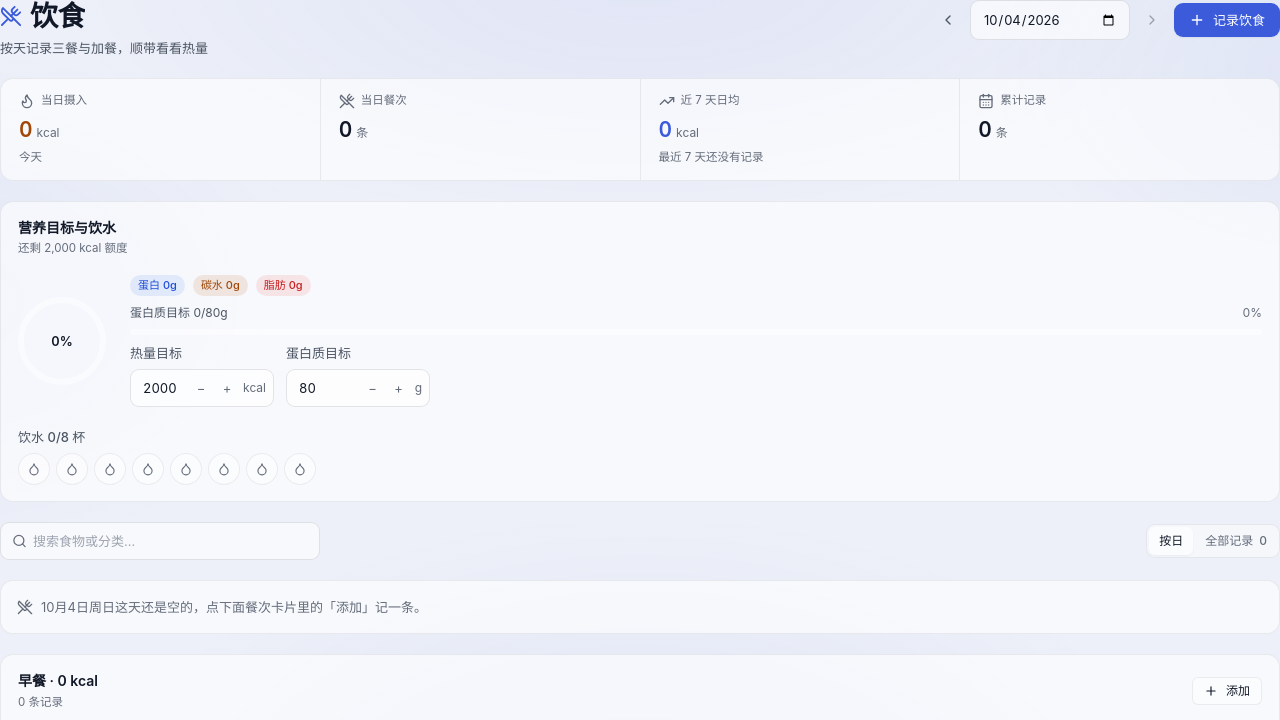
Scenario: DietPage › 记录饮食后进入对应餐次并计入当日摄入
This screenshot has width=1280, height=720.
Click the button "记录饮食".
click(1227, 20)  # box top-left (1174, 3), bottom-right (1279, 37)
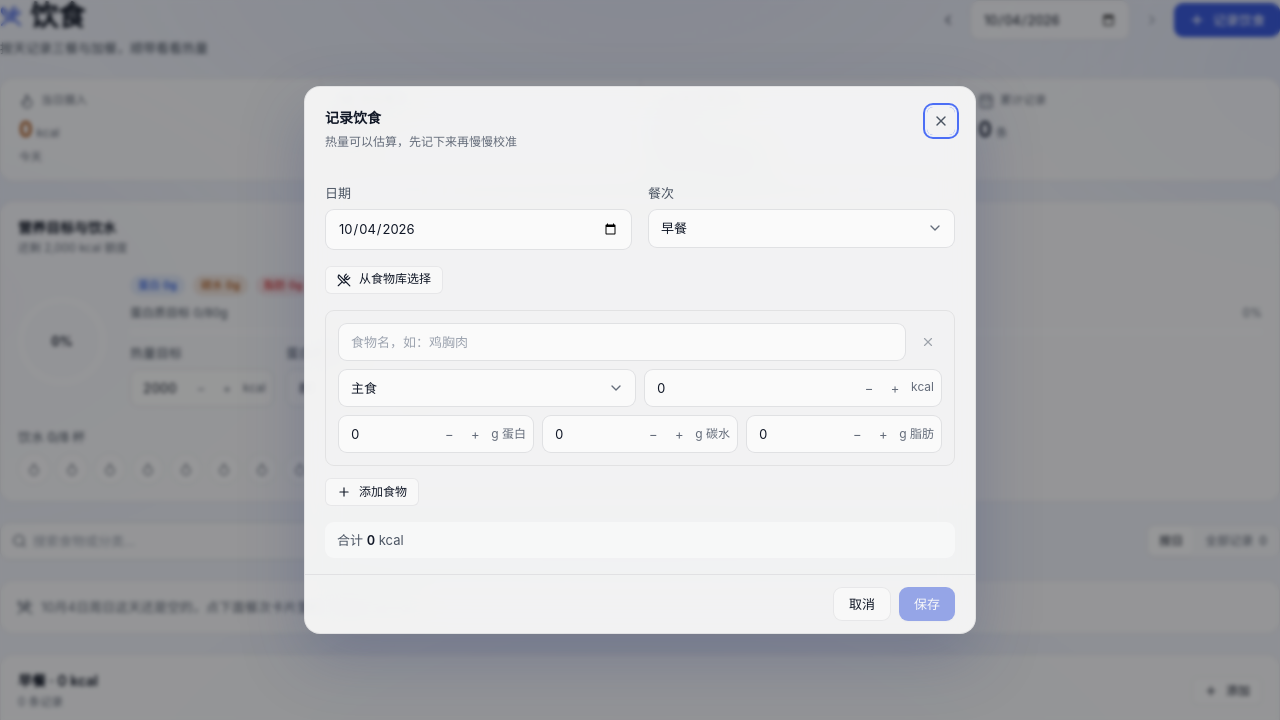
Select "午餐" in the dropdown labelled "餐次" at (802, 228), box top-left (648, 209), bottom-right (955, 248)
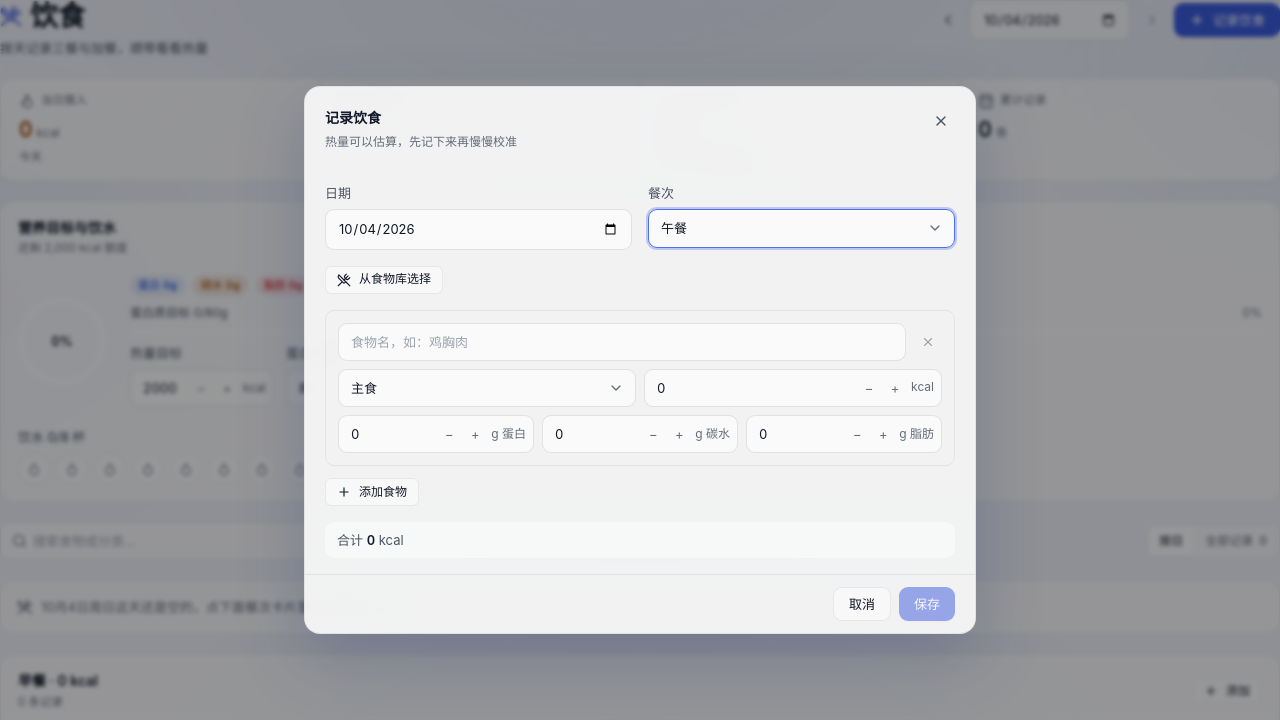
Type "鸡胸肉" into the field named "第 1 个食物名称".
click(622, 342); type("鸡胸肉")  # box top-left (338, 322), bottom-right (906, 361)
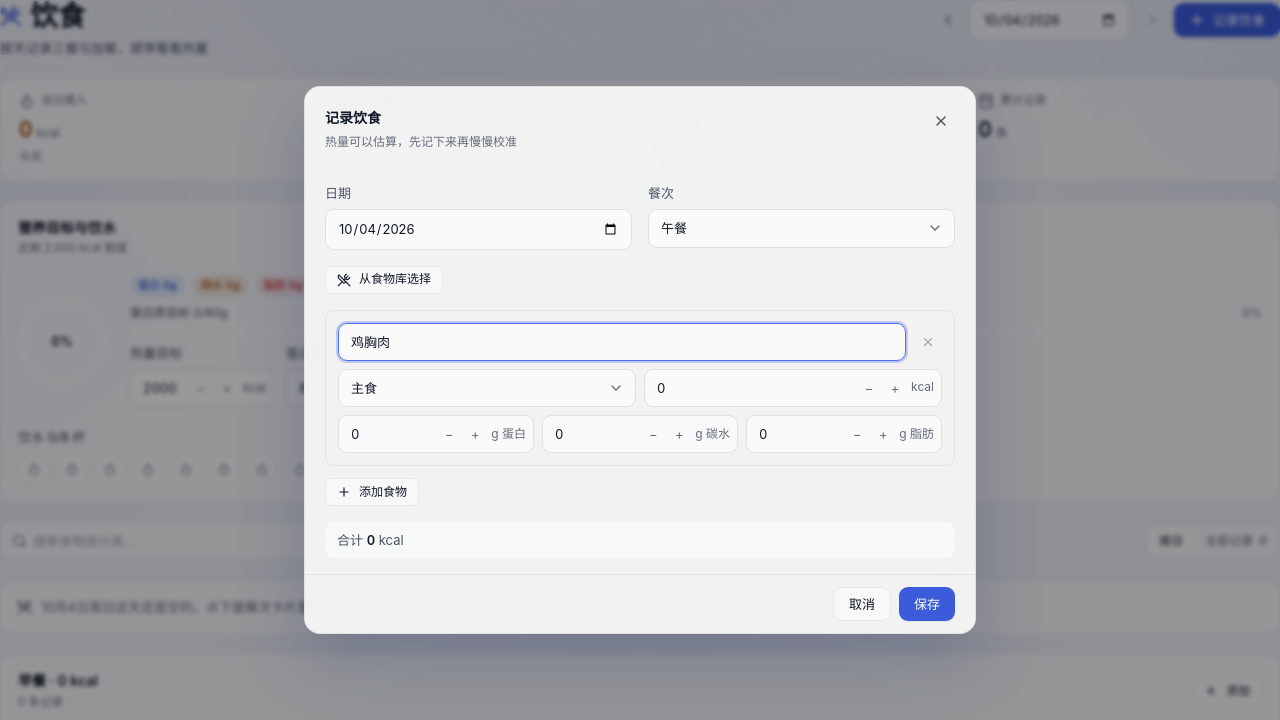
Replace the text in the number field named "第 1 个食物的热量" with "200" at (793, 388), box top-left (644, 369), bottom-right (942, 407)
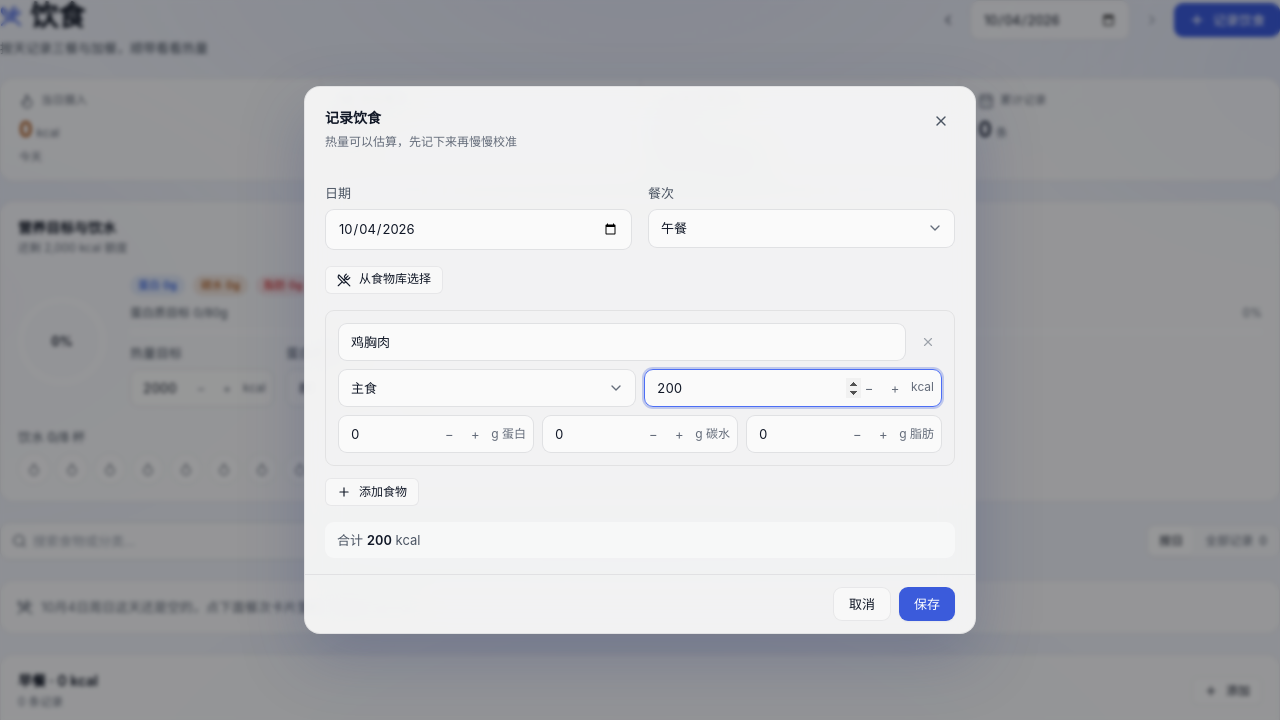
Select "蛋白质" in the dropdown named "第 1 个食物的分类" at (487, 388), box top-left (338, 369), bottom-right (636, 407)
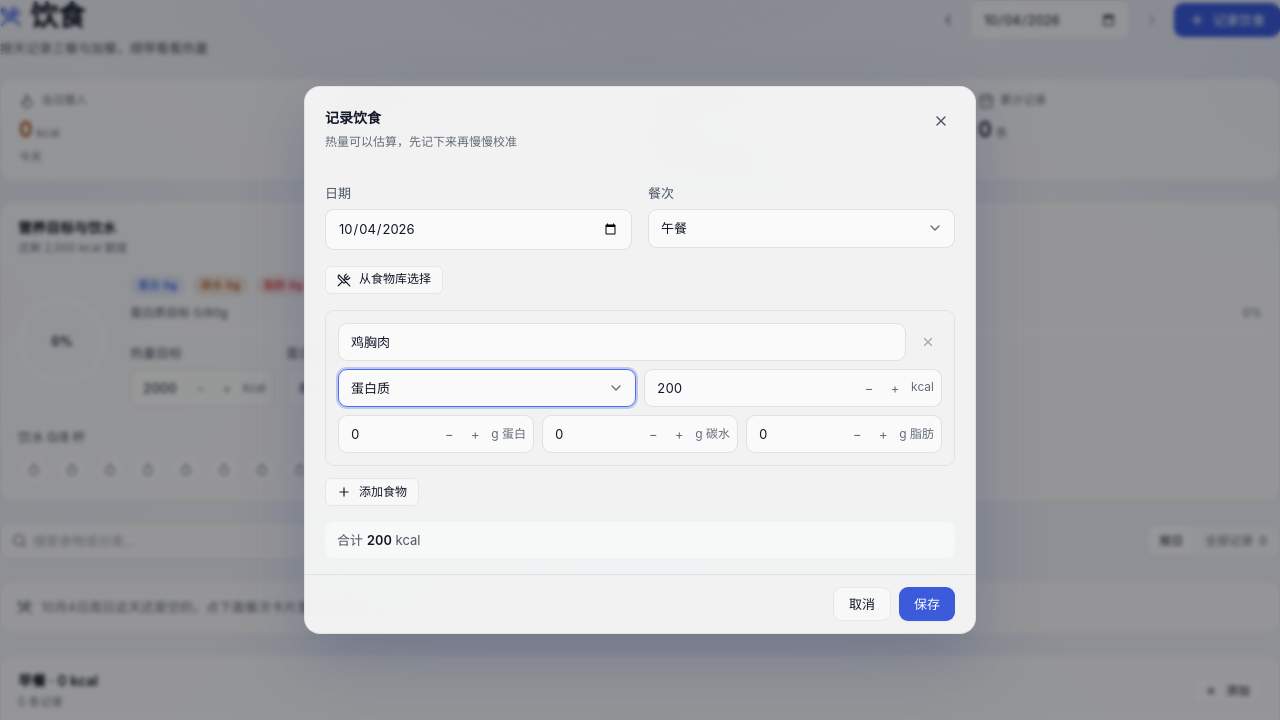
Click the button "保存".
click(927, 604)  # box top-left (899, 587), bottom-right (955, 621)
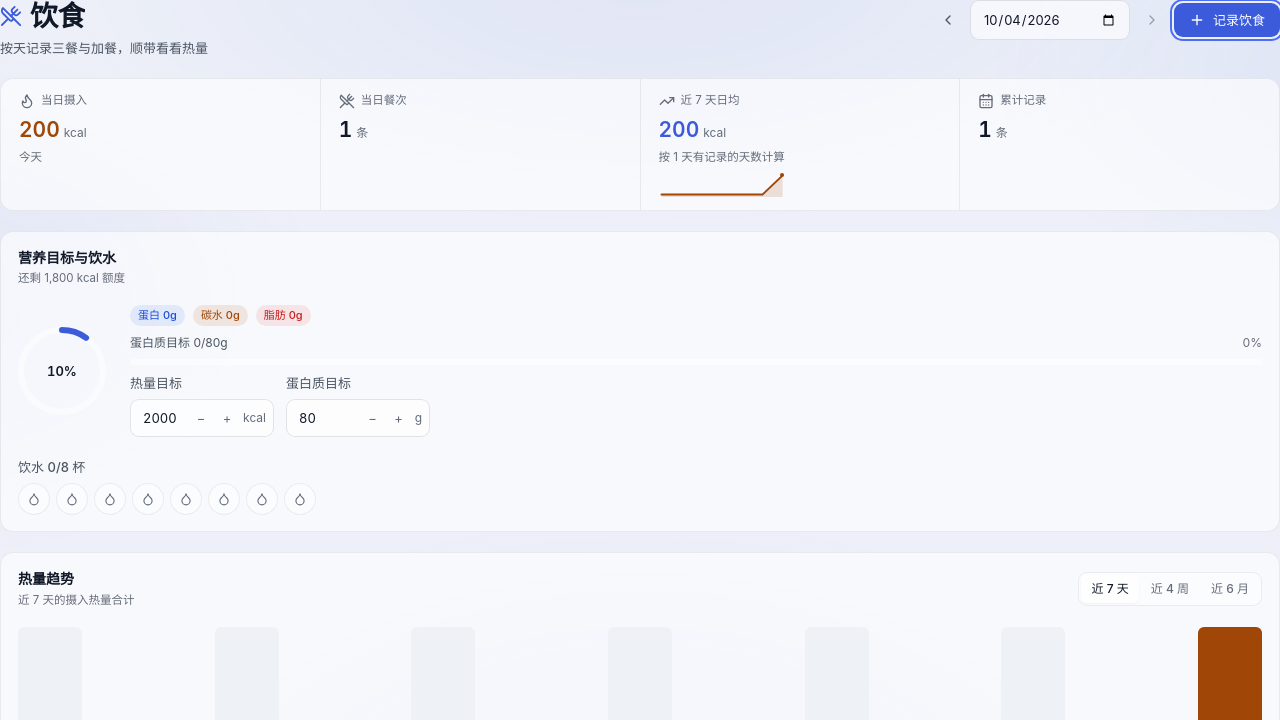
Check: the text "当日摄入" shows "200", box top-left (19, 117), bottom-right (60, 142)
